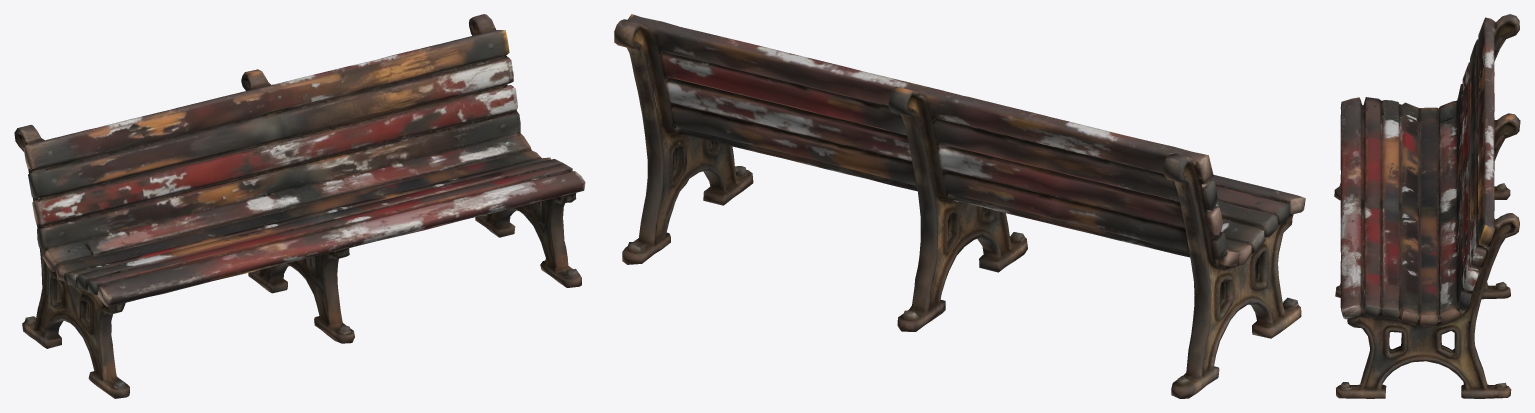
The model's file is weathered-bench.glb.
3 views of the same model, side by side, from view 1: azimuth 30°, elevation 25°; view 2: azimuth 150°, elevation 25°; view 3: azimuth 270°, elevation 25° (orthographic). The views are drawn at different scales.
Parts seen in each view (by area): view 1: Mesh1.0; view 2: Mesh1.0; view 3: Mesh1.0.
Part boxes in pixels (left/top/right/bottom): Mesh1.0: left=14, top=14, right=585, bottom=398; Mesh1.0: left=614, top=14, right=1305, bottom=398; Mesh1.0: left=1334, top=14, right=1520, bottom=398.
Bounding box in the file's own units: 1.92 × 0.7701 × 0.7201.
Materials: 1 (1 with a texture image).
